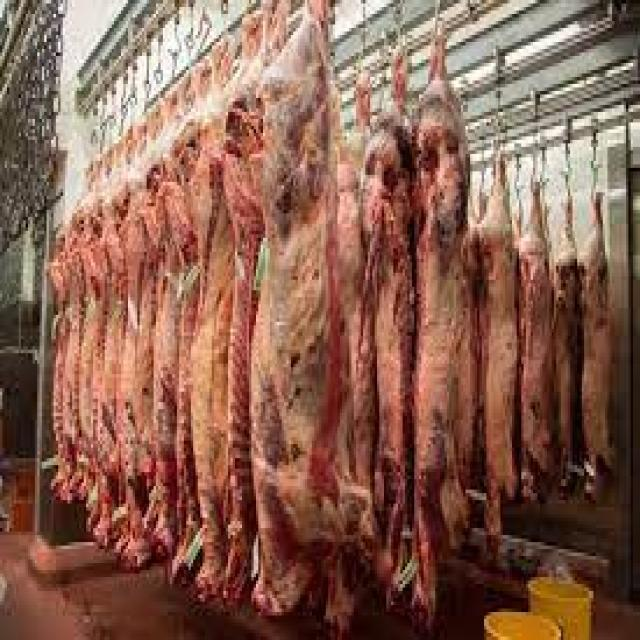Organik: (43, 77, 630, 612)
